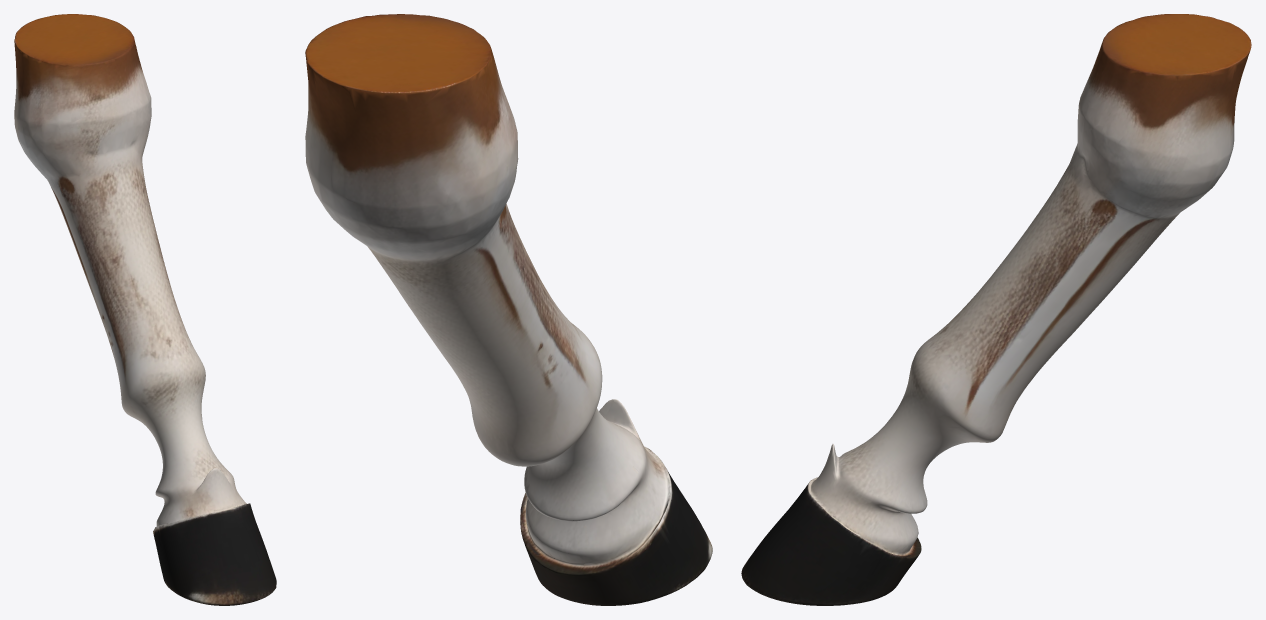
The model's file is horse-distal-limb.glb.
3 views of the same model, side by side, from view 1: azimuth 30°, elevation 25°; view 2: azimuth 150°, elevation 25°; view 3: azimuth 270°, elevation 25° (orthographic). The views are drawn at different scales.
Visible parts, largest first — view 1: model; view 2: model; view 3: model.
Part boxes in pixels (x1=…): model: x1=14, y1=14, x2=276, y2=605; model: x1=305, y1=14, x2=712, y2=605; model: x1=741, y1=14, x2=1251, y2=605.
Bounding box in the file's own units: 0.5472 × 1.9 × 1.62.
1 material, 1 textured.
